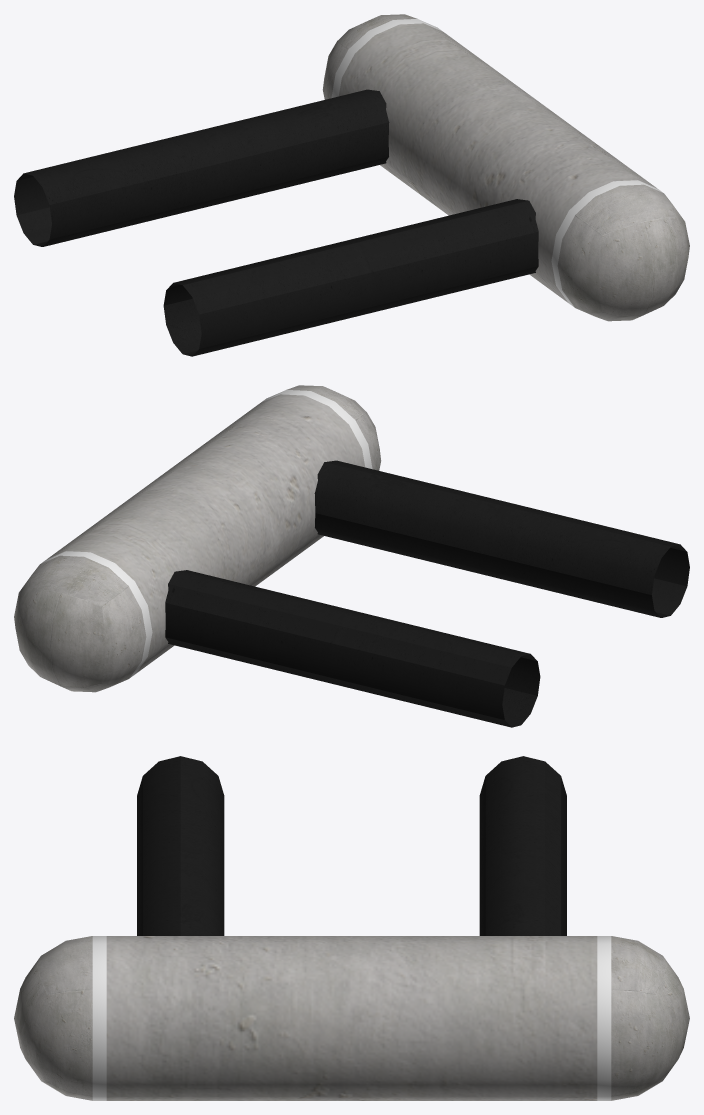
The model's file is Handle.fbx.
3 views of the same model, one above another, from view 1: azimuth 30°, elevation 25°; view 2: azimuth 150°, elevation 25°; view 3: azimuth 270°, elevation 25° (orthographic). The views are drawn at different scales.
Parts seen in each view (by area): view 1: Handle; view 2: Handle; view 3: Handle.
Boxes of the visible parts, <box> form: Handle: <box>14,14,689,356</box>; Handle: <box>14,385,689,727</box>; Handle: <box>14,756,689,1100</box>.
Size of the model in its own units: 0.134 by 0.0361 by 0.1487.
